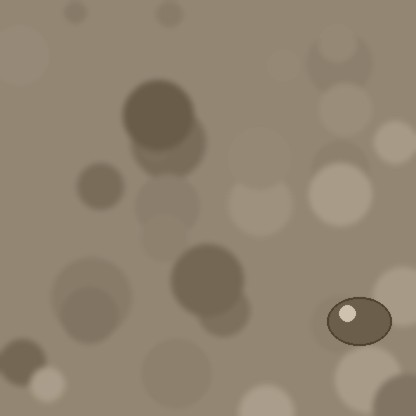gota: (327, 299, 391, 349)
